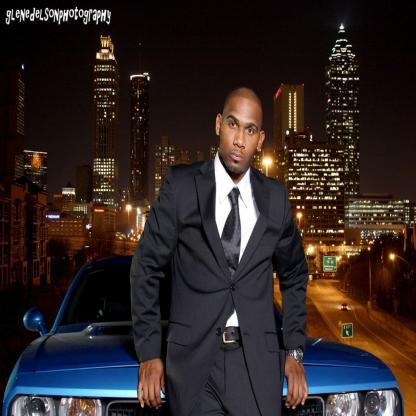Car: (1, 250, 408, 416), (342, 302, 350, 311)
